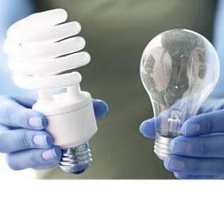light_bulb: (0, 5, 102, 178), (135, 24, 224, 170)
